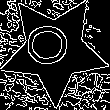O_E: (29, 27, 80, 72)
